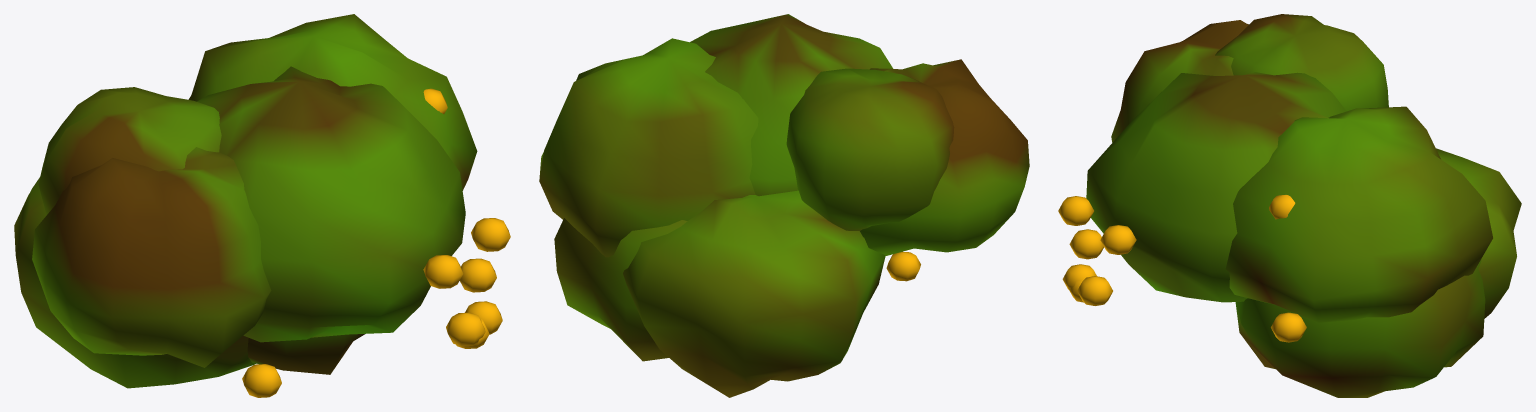
File: bush_white.glb
The picture shows the model from 3 angles, left to right: view 1: azimuth 30°, elevation 25°; view 2: azimuth 150°, elevation 25°; view 3: azimuth 270°, elevation 25°; orthographic projection. The views are drawn at different scales.
Visible parts, largest first — view 1: bush_white; view 2: bush_white; view 3: bush_white.
Boxes of the visible parts, x1=… form: bush_white: x1=14, y1=14, x2=510, y2=397; bush_white: x1=539, y1=14, x2=1029, y2=397; bush_white: x1=1058, y1=14, x2=1521, y2=397.
Bounding box in the file's own units: 1.59 × 1.08 × 1.54.
